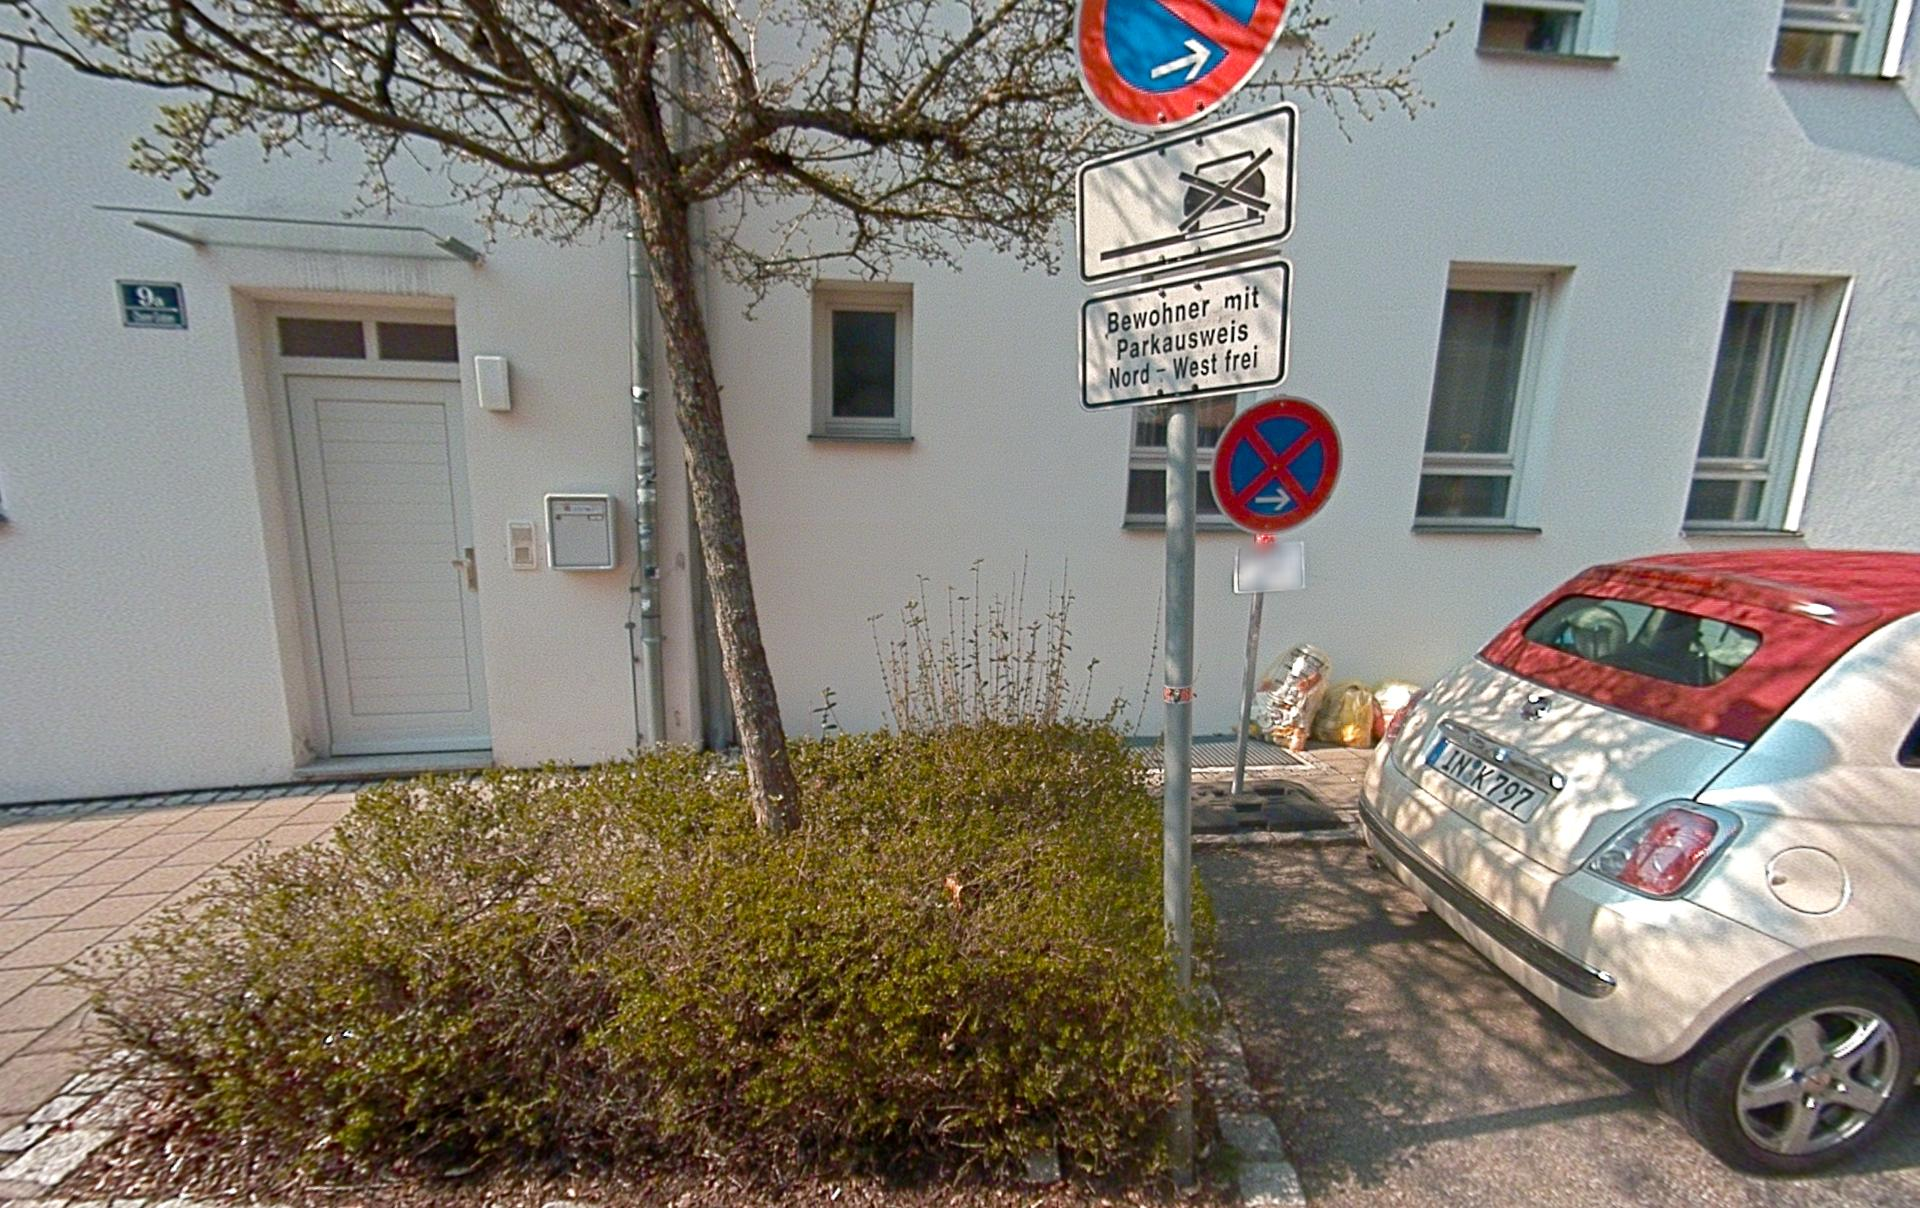car: (1357, 546, 1919, 1176)
traffic sign: (1075, 103, 1297, 281), (1080, 256, 1291, 409), (1074, 0, 1291, 132)
